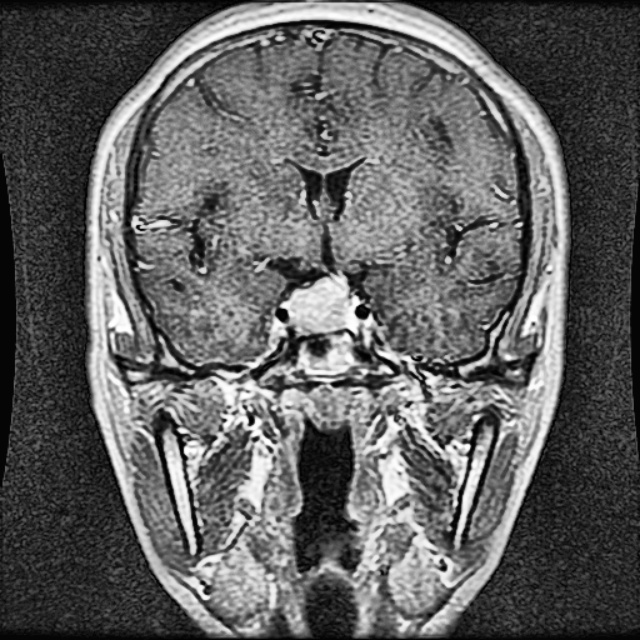Pituitary: (287, 270, 358, 333)
